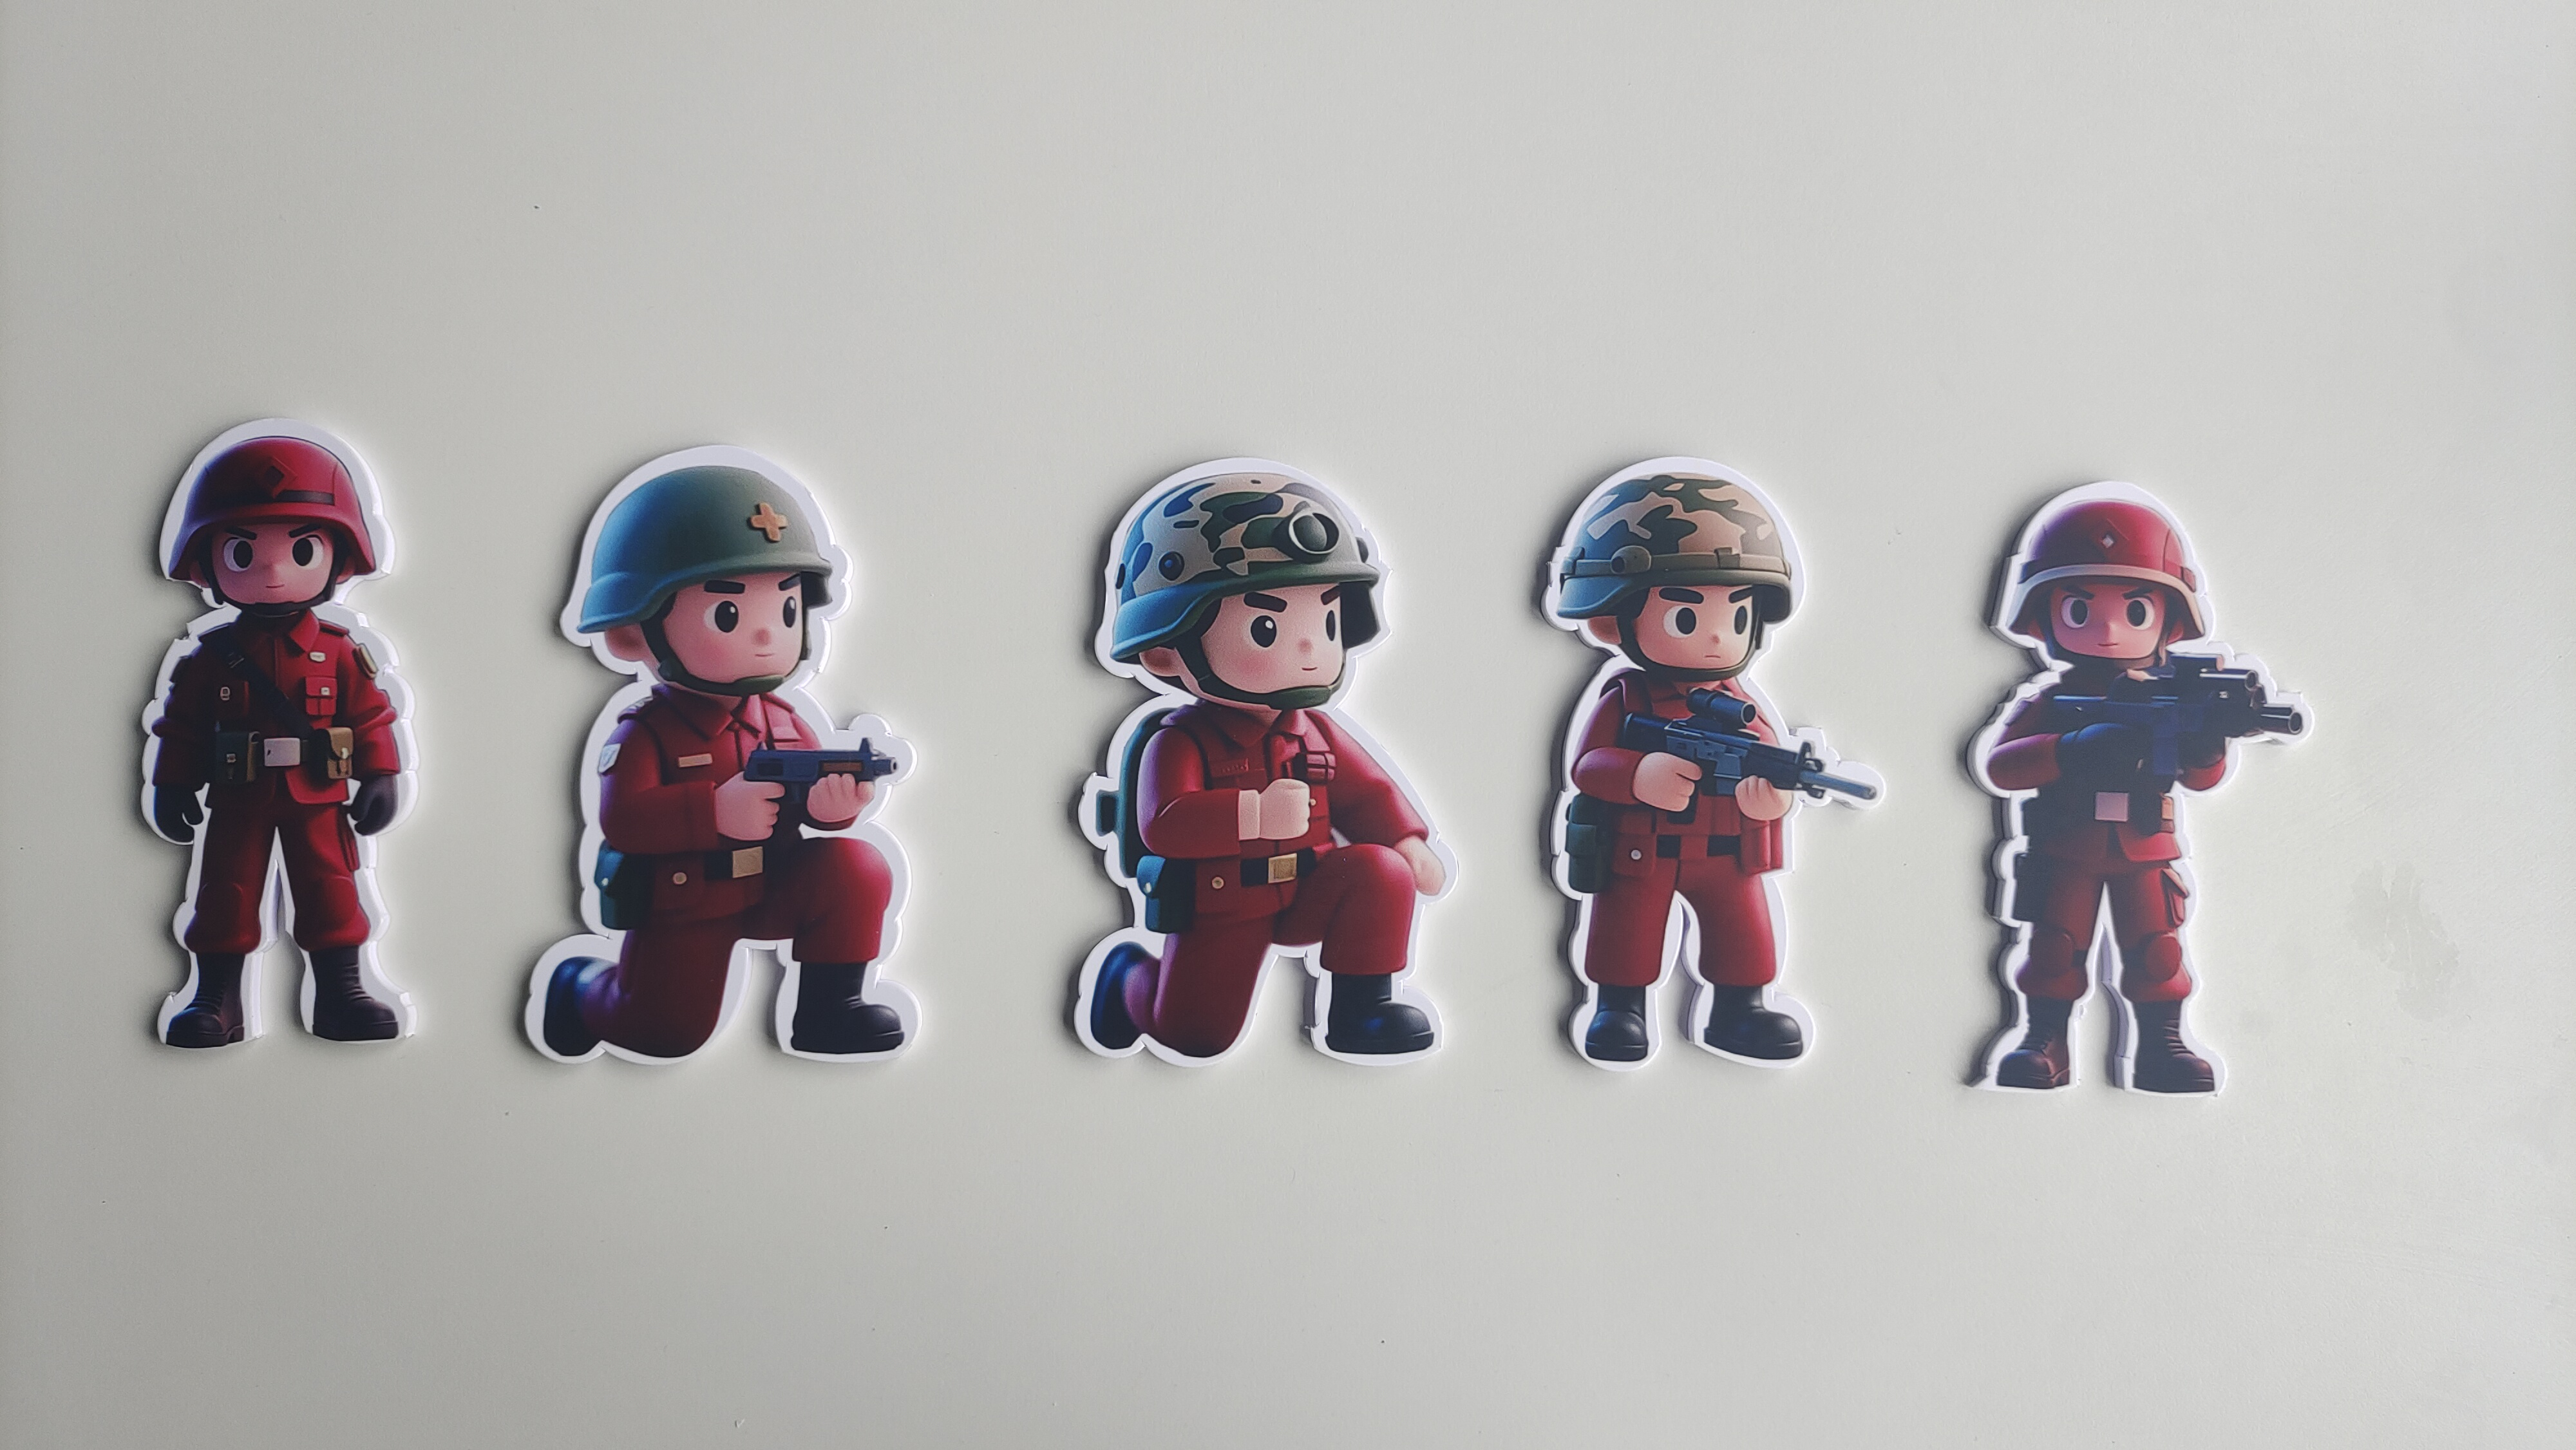enemy1: (506, 690, 934, 1077), (1054, 702, 1465, 1077), (126, 621, 441, 1061), (1937, 670, 2242, 1103), (1537, 683, 1828, 1088)
